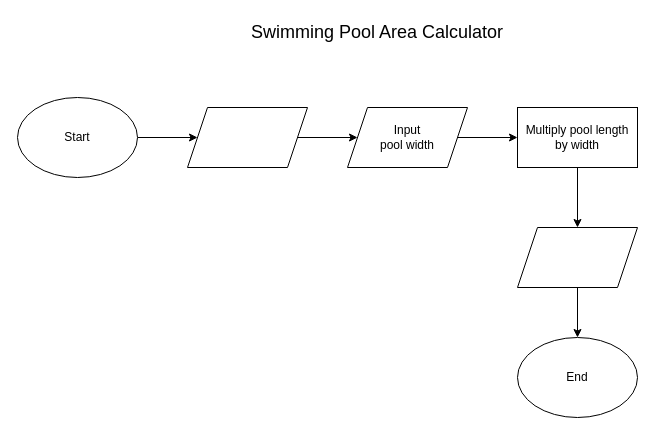
The diagram is 655 pixels wide and 435 high, and some of its shapes have lost their labels. Here are the shapes that lost their labels. From the top down, the centre of each, then its label:
pixel 247 137: Input pool length
pixel 577 257: Display total area
